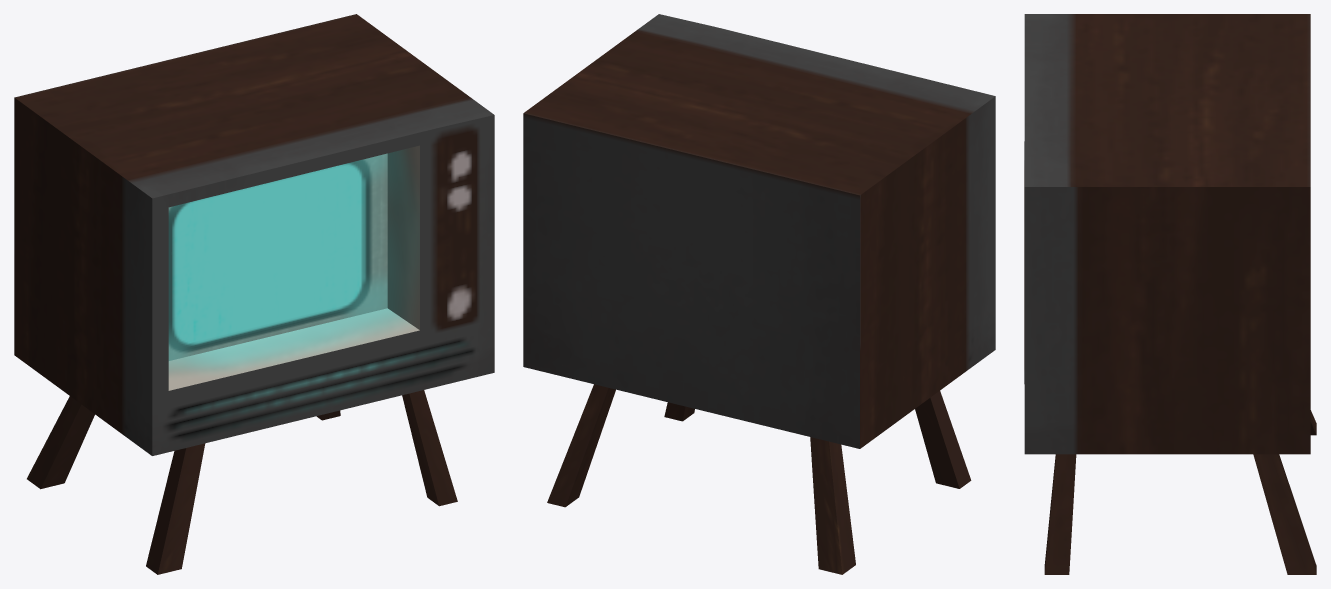
The picture shows the model from 3 angles, left to right: view 1: azimuth 30°, elevation 25°; view 2: azimuth 150°, elevation 25°; view 3: azimuth 270°, elevation 25°; orthographic projection. The views are drawn at different scales.
Parts seen in each view (by area): view 1: TV; view 2: TV; view 3: TV.
Part boxes in pixels (x1=…): TV: x1=14, y1=14, x2=494, y2=574; TV: x1=523, y1=14, x2=995, y2=574; TV: x1=1024, y1=14, x2=1316, y2=574.
Size of the model in its own units: 81.28 by 88.07 by 57.93.
